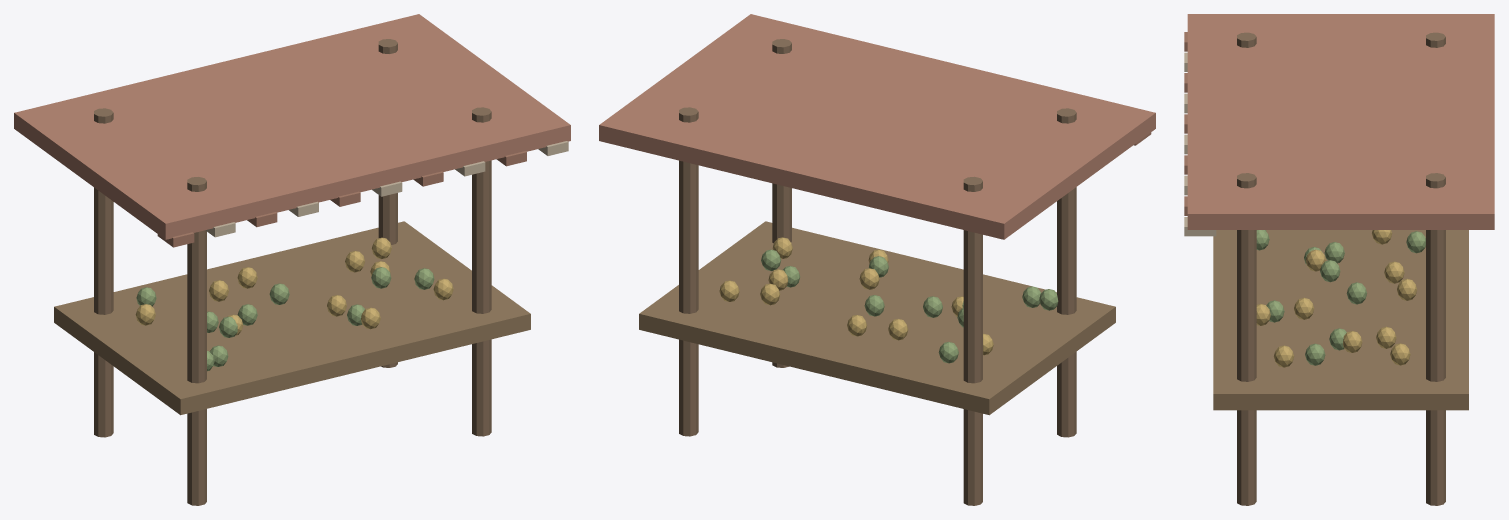
Rendered from market_stall.glb.
The picture shows the model from 3 angles, left to right: view 1: azimuth 30°, elevation 25°; view 2: azimuth 150°, elevation 25°; view 3: azimuth 270°, elevation 25°; orthographic projection.
Visible parts, largest first — view 1: market_stall_5, market_stall_4, market_stall_1, market_stall_3, market_stall_0, market_stall_2; view 2: market_stall_5, market_stall_4, market_stall_0, market_stall_2, market_stall_1, market_stall_3; view 3: market_stall_5, market_stall_4, market_stall_2, market_stall_3, market_stall_17, market_stall_25, market_stall_27, market_stall_26, market_stall_18, market_stall_28, market_stall_29, market_stall_35 (+2 smaller).
Part boxes in pixels (box(x1,y1,x2,y2)): market_stall_5: box(14, 14, 570, 239); market_stall_4: box(54, 221, 530, 415); market_stall_1: box(187, 177, 206, 505); market_stall_3: box(472, 107, 491, 436); market_stall_0: box(94, 108, 113, 437); market_stall_2: box(378, 39, 397, 367); market_stall_5: box(599, 14, 1155, 239); market_stall_4: box(639, 221, 1115, 415); market_stall_0: box(963, 176, 982, 505); market_stall_2: box(679, 107, 698, 436); market_stall_1: box(1057, 108, 1076, 437); market_stall_3: box(772, 39, 791, 367); market_stall_5: box(1187, 14, 1494, 229); market_stall_4: box(1213, 230, 1468, 410); market_stall_2: box(1426, 173, 1445, 505); market_stall_3: box(1237, 173, 1256, 505); market_stall_17: box(1390, 343, 1410, 365); market_stall_25: box(1376, 326, 1396, 348); market_stall_27: box(1384, 261, 1404, 283); market_stall_26: box(1346, 282, 1366, 304); market_stall_18: box(1320, 260, 1340, 282); market_stall_28: box(1305, 343, 1325, 365); market_stall_29: box(1274, 345, 1294, 367); market_stall_35: box(1294, 297, 1314, 319).
Size of the model in its own units: 3.7 by 2.8 by 2.43.
